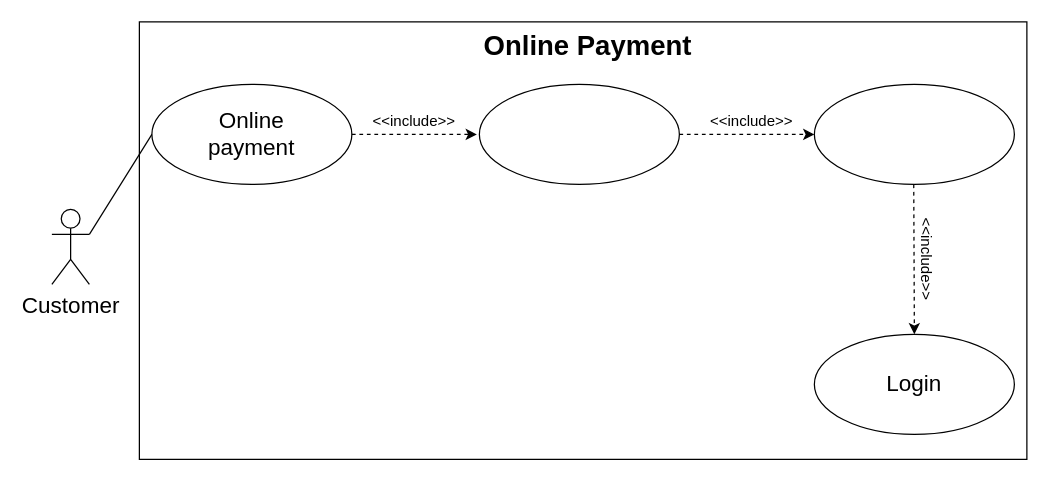
Some shapes in this 1049 by 481 pixel diagram are drawn without their labels. Each missing label, with the box of its shape:
Payment: (478, 83, 679, 184)
Personal information management: (813, 83, 1014, 184)
